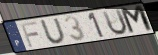1: (87, 12, 106, 39)
3: (64, 14, 85, 43)
F: (19, 20, 39, 48)
M: (118, 4, 155, 36)
U: (100, 7, 129, 37), (39, 17, 69, 45)
